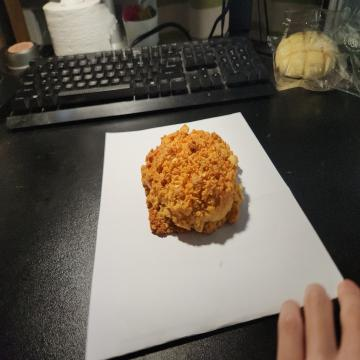soboru_bread: (140, 124, 246, 238)
